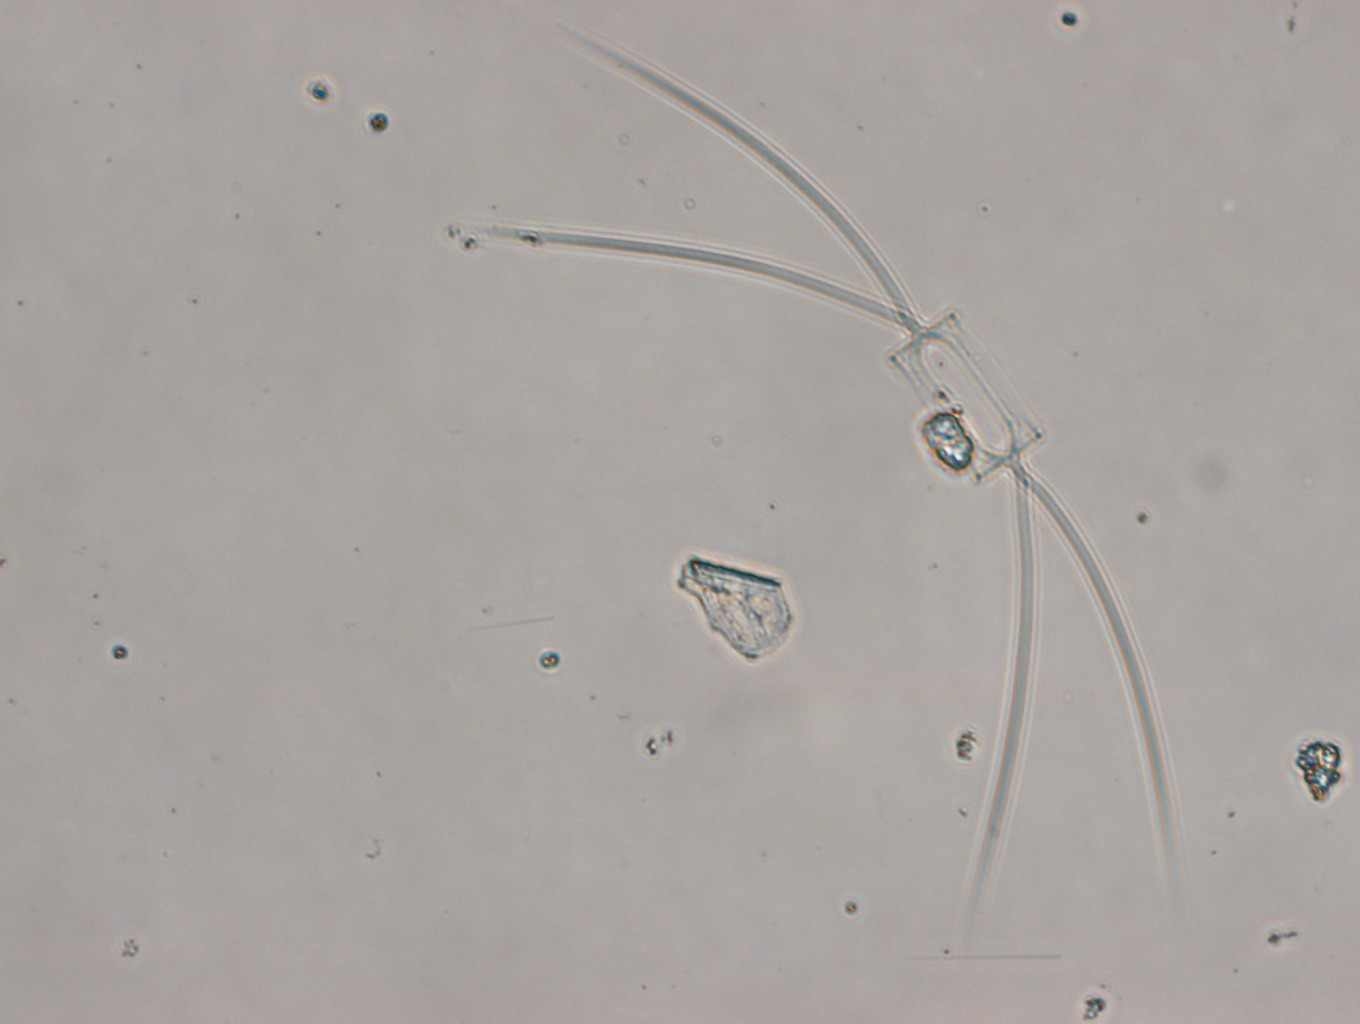chaetoceros: (482, 25, 1183, 916)
